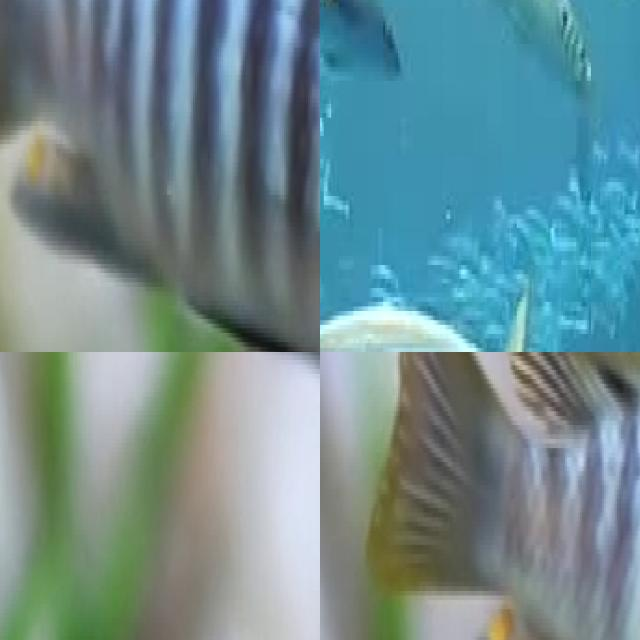fish: (0, 0, 320, 352), (80, 352, 320, 558), (320, 279, 550, 352)
